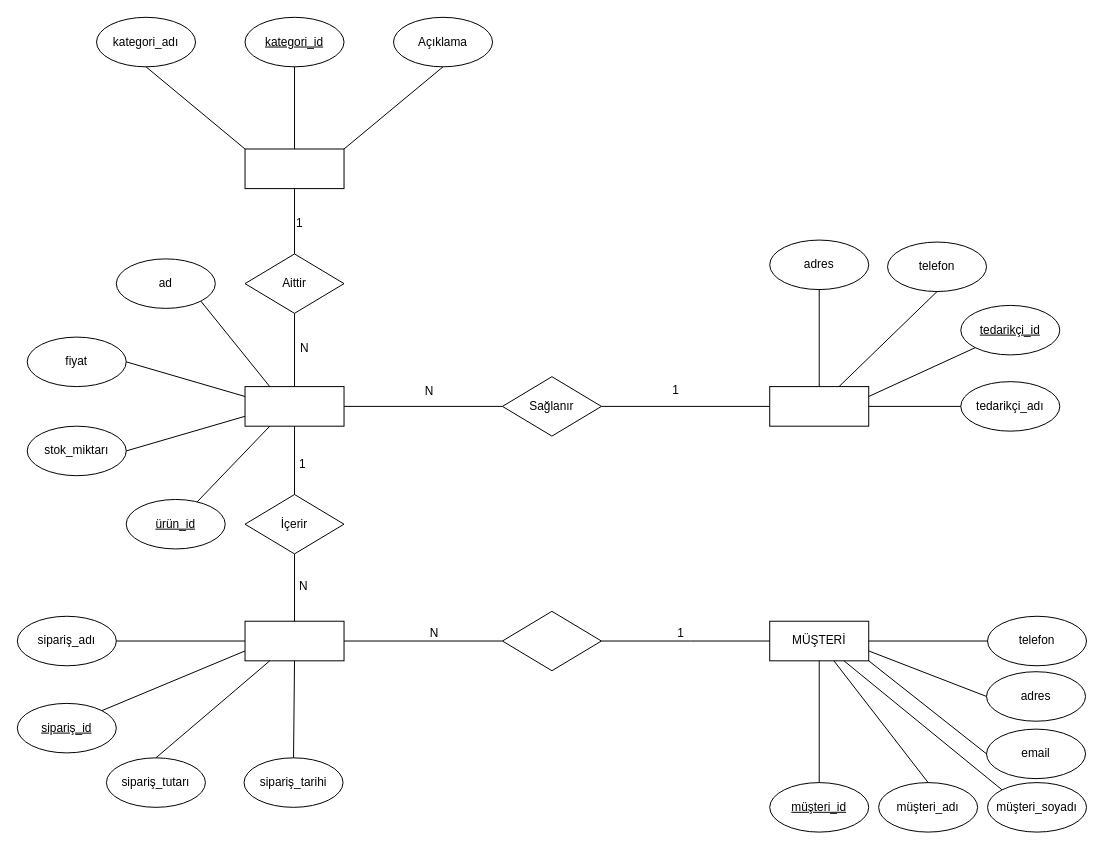
Some shapes in this 1104 by 849 pixel diagram are drawn without their labels. The centre of each missing label's shape, as x and y in pixels:
"KATEGORİ" belongs at [294,168].
"TEDARİKÇİ" belongs at [819,406].
"Verir" belongs at [551,640].
"ÜRÜN" belongs at [294,406].
"ŞİPARİŞ" belongs at [294,640].
